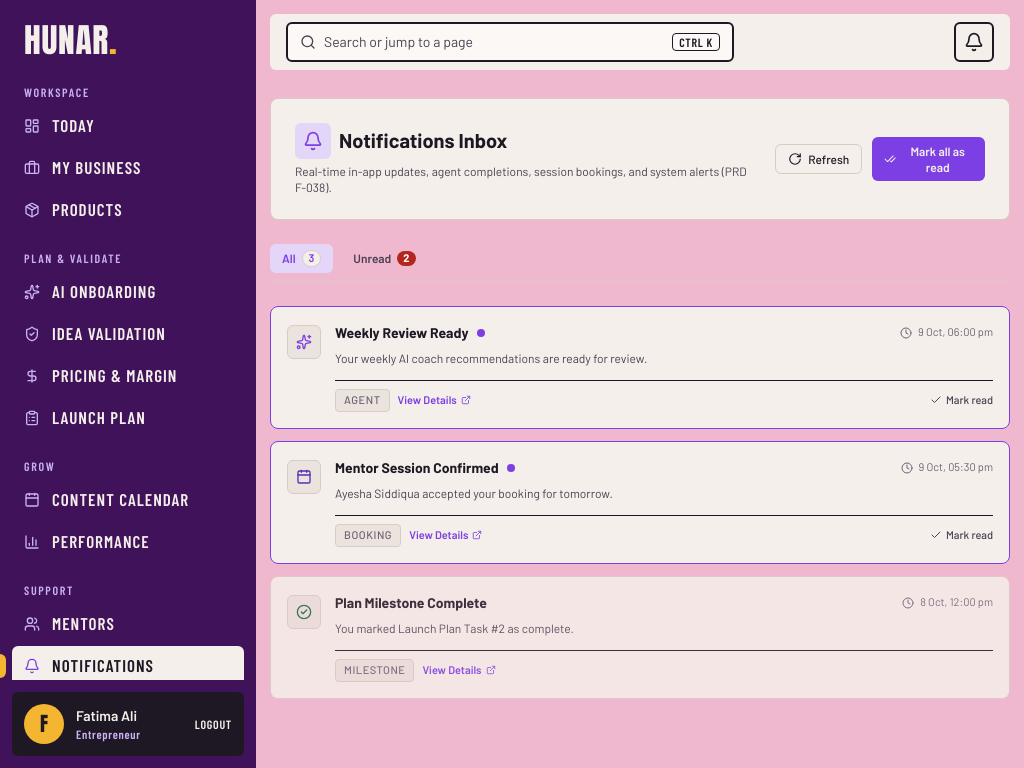
Scenario: NotificationsInboxPage (Task 55 / F-038) › marks a single notification as read
Expected: the heading "Weekly Review Ready" is shown, [335,323,468,343]
Click the button with test id "mark-read-btn-1": (961, 400) [930,392,993,409]
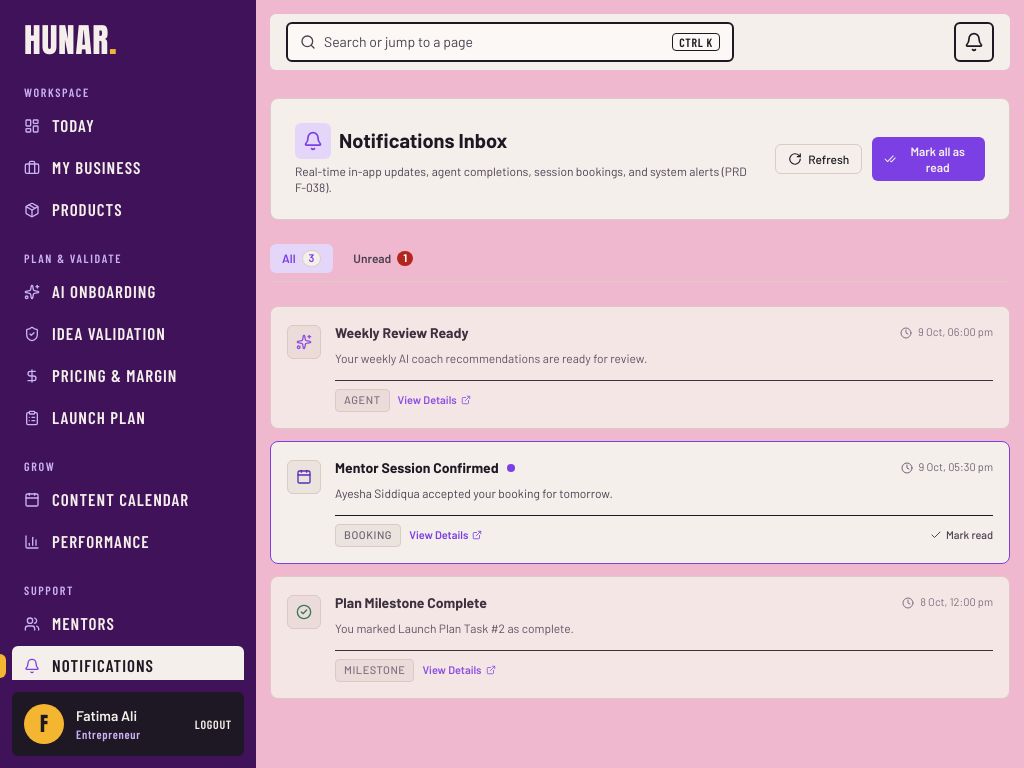
Now the button with test id "mark-read-btn-1" is gone
